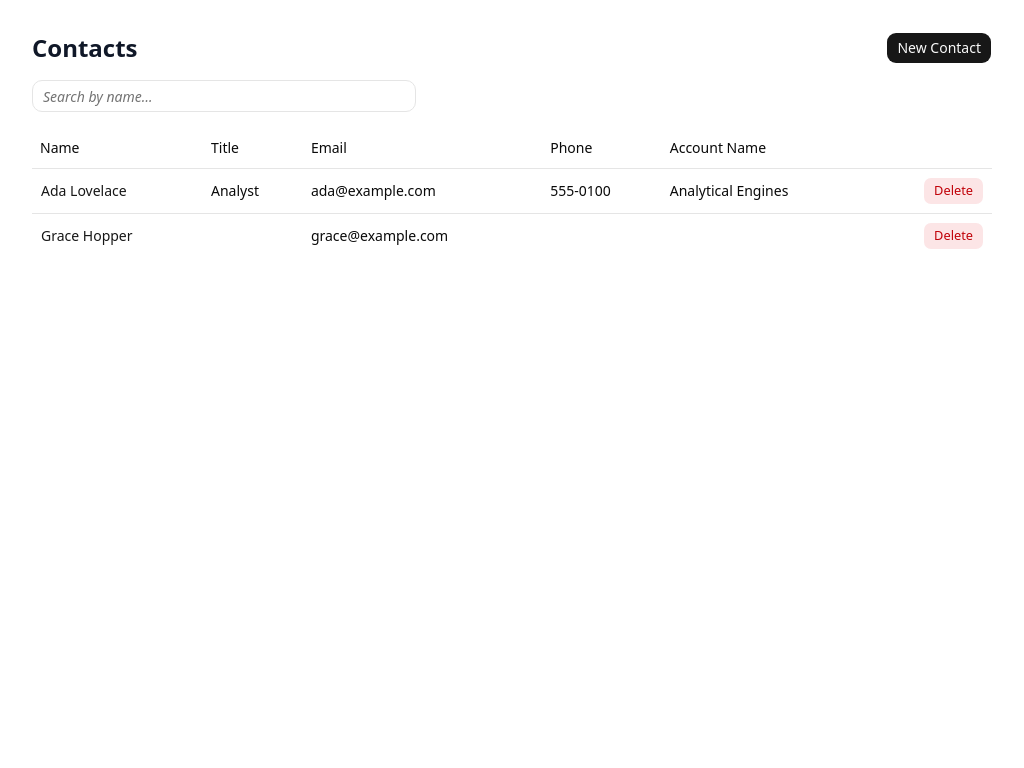
Test: ContactsPage › creates a contact: closes the form, reloads without the cache and confirms
Expected: the button "Ada Lovelace" is shown, [40,180,128,202]
Click the button "New Contact" at coordinates (939, 48), box [886,32,992,64]
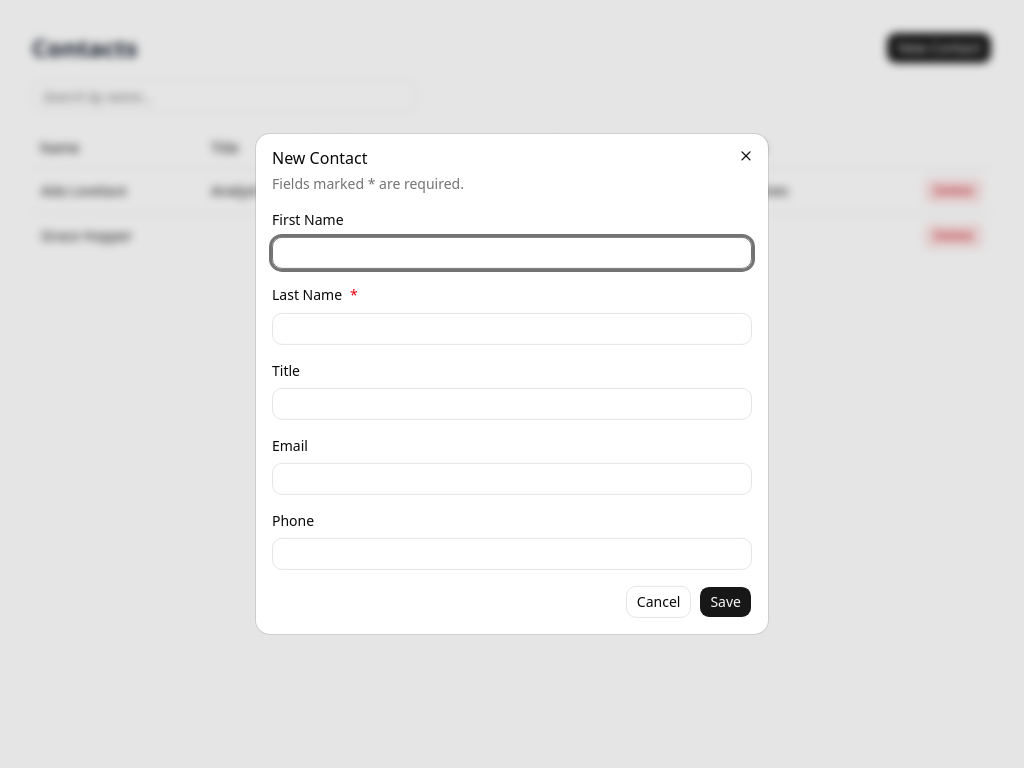
Type "Alan" into the field labelled "First Name" at coordinates (512, 253), box [272,237,752,269]
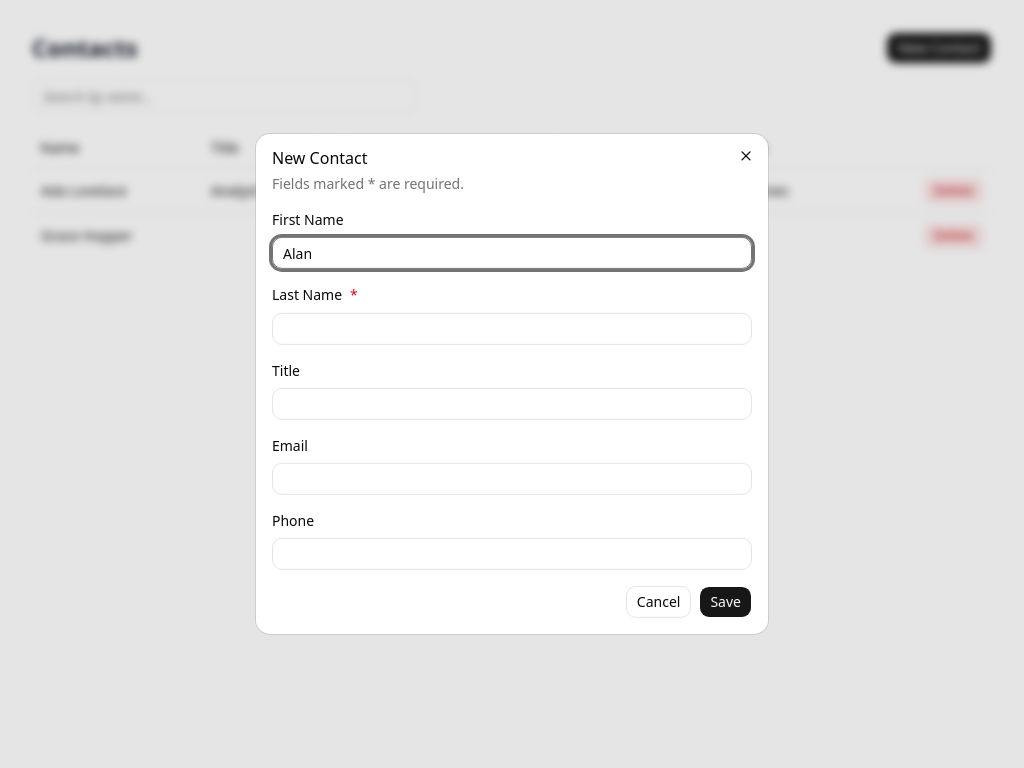
Type "Turing" into the field labelled "Last Name *" at coordinates (512, 328), box [272,312,752,344]
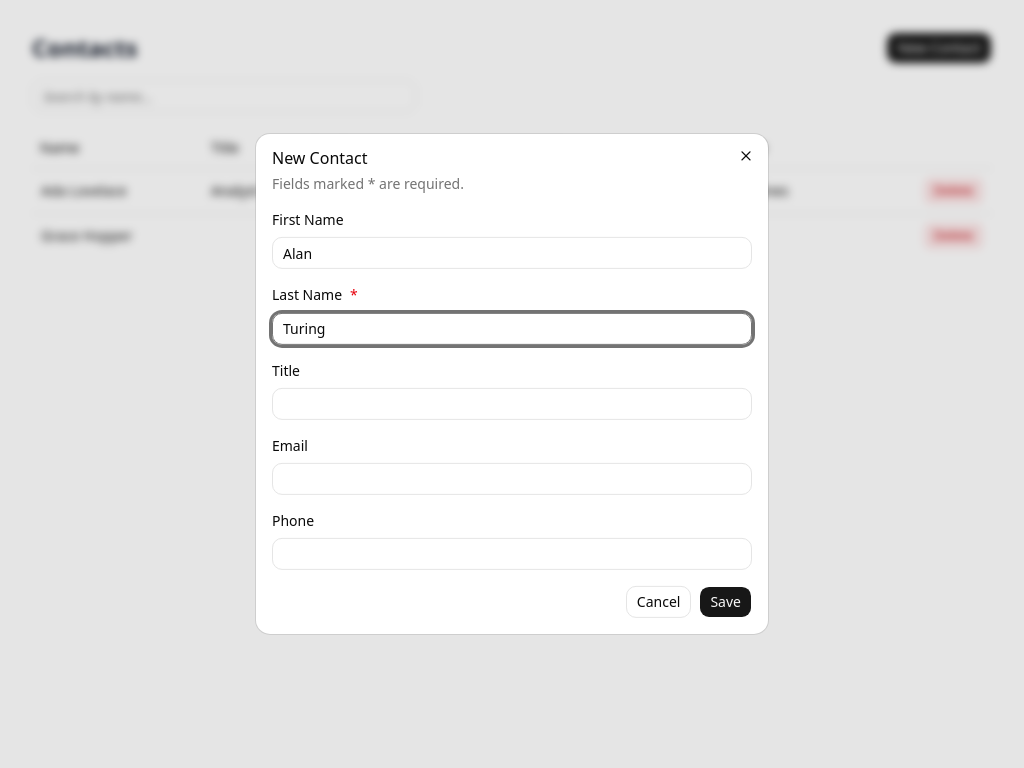
Click the button "Save" at coordinates (726, 602), box [699,586,752,618]
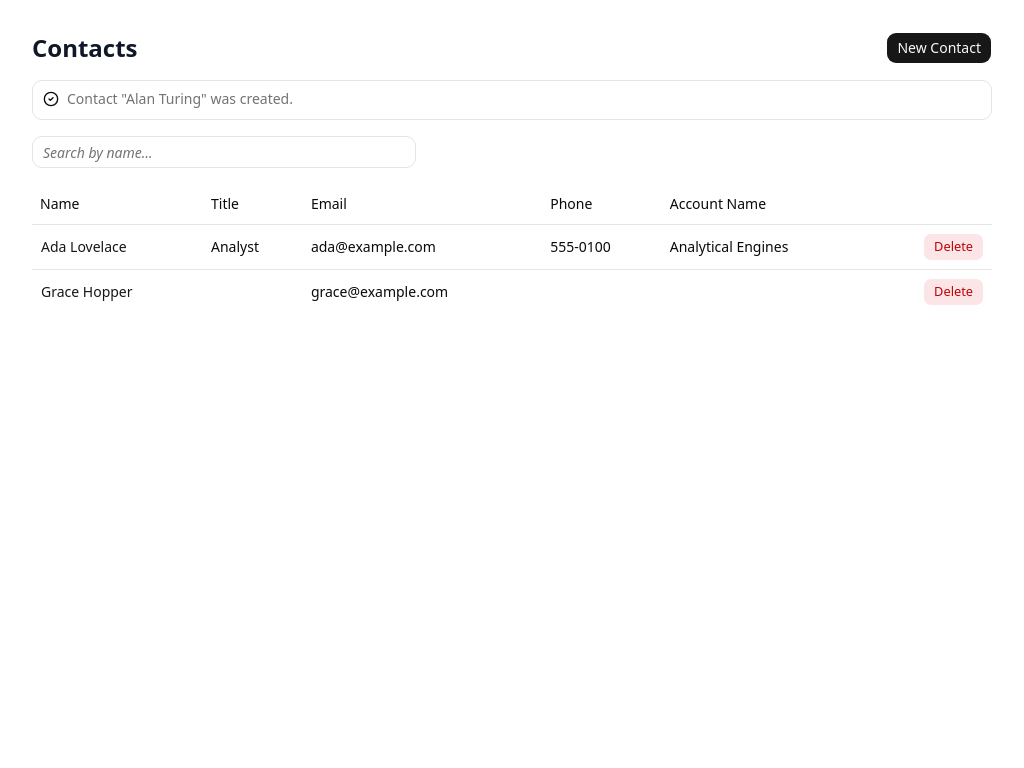
Expected: the text "Contact \"Alan Turing\" was created." is shown, [67,89,293,108]
Expected: the dialog is gone
